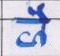au_matra: (30, 3, 56, 44)
